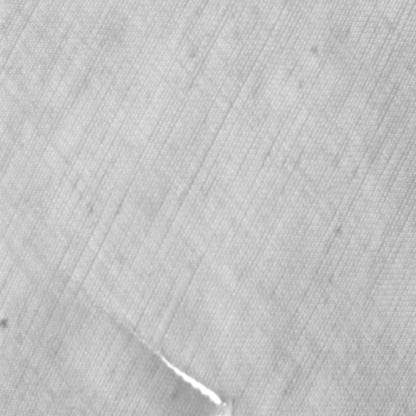hole: (117, 314, 234, 414)
